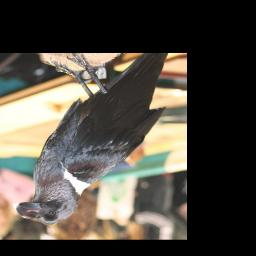Crow: (12, 53, 169, 226)
